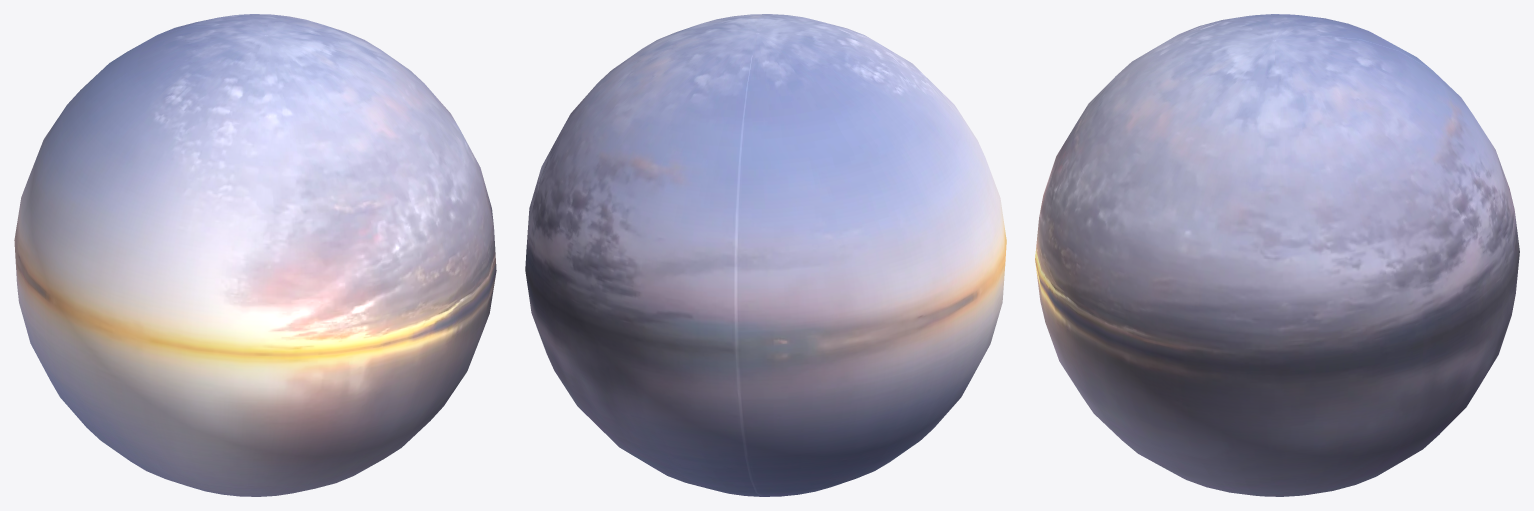
File: aube.gltf
3 renders of one model, left to right at view 1: azimuth 30°, elevation 25°; view 2: azimuth 150°, elevation 25°; view 3: azimuth 270°, elevation 25°, orthographic.
Parts seen in each view (by area): view 1: aurore; view 2: aurore; view 3: aurore.
Part boxes in pixels (x1=…): aurore: x1=14, y1=14, x2=496, y2=496; aurore: x1=525, y1=14, x2=1006, y2=496; aurore: x1=1035, y1=14, x2=1519, y2=496.
Bounding box in the file's own units: 444 × 444 × 444.
1 material, 1 textured.
